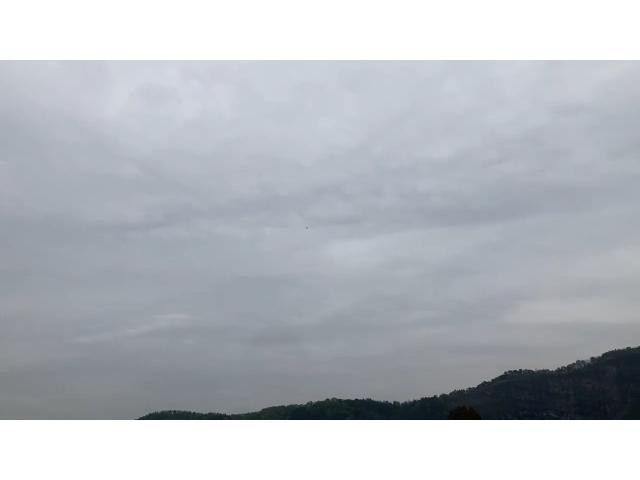Anti-Drone: (295, 218, 323, 238)
